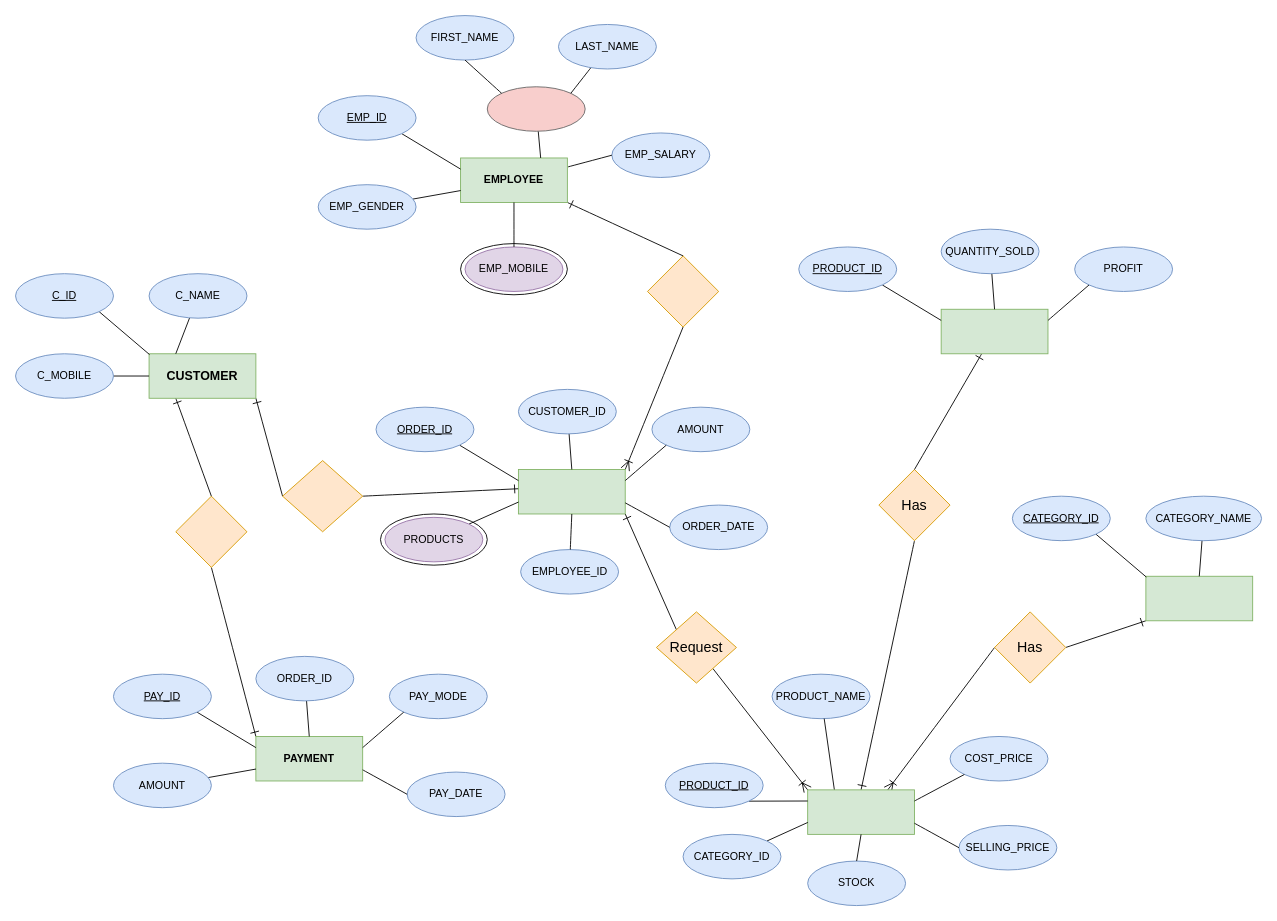
Some shapes in this 1277 by 921 pixel diagram are drawn without their labels. Here are the shapes that lost their labels. From the top down, the centre of each, then its label:
[535,108]: EMP_NAME
[683,291]: Take
[994,331]: SALES
[322,496]: Give
[571,491]: ORDERS
[211,531]: Make
[1199,598]: CATEGORY
[860,811]: PRODUCT
